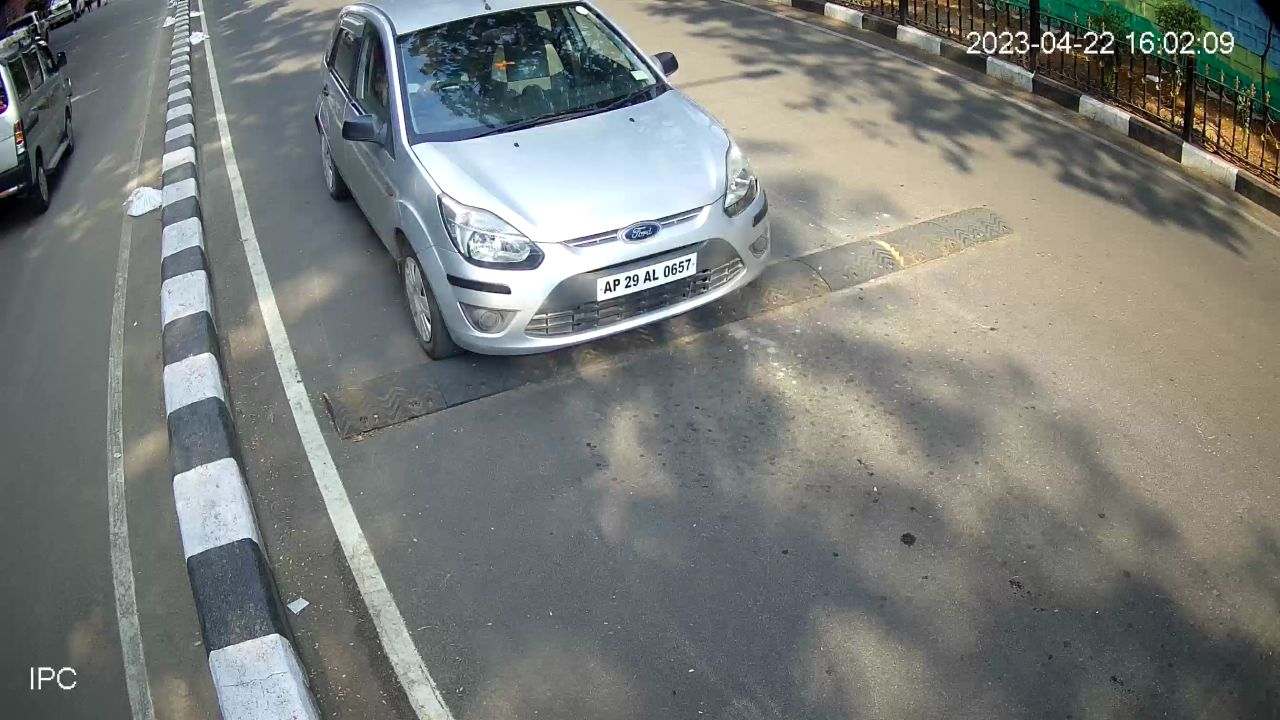license_plate: (593, 248, 703, 313)
